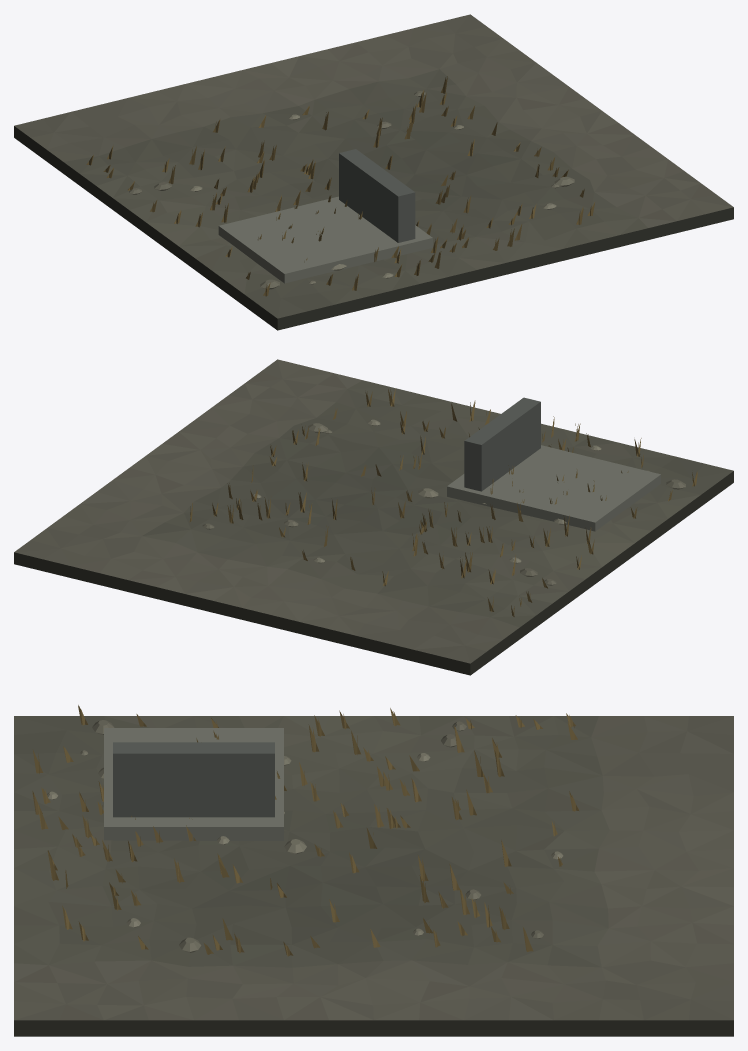
Rendered from CHUNK_ruined_monastery__fallen_guardian_seal__01.glb.
3 views of the same model, one above another, from view 1: azimuth 30°, elevation 25°; view 2: azimuth 150°, elevation 25°; view 3: azimuth 270°, elevation 25° (orthographic). The views are drawn at different scales.
Visible parts, largest first — view 1: CHUNK_ruined_monastery__fallen_guardian_seal__01; view 2: CHUNK_ruined_monastery__fallen_guardian_seal__01; view 3: CHUNK_ruined_monastery__fallen_guardian_seal__01.
Part boxes in pixels (left/top/right/bottom): CHUNK_ruined_monastery__fallen_guardian_seal__01: left=14, top=14, right=733, bottom=330; CHUNK_ruined_monastery__fallen_guardian_seal__01: left=14, top=359, right=733, bottom=675; CHUNK_ruined_monastery__fallen_guardian_seal__01: left=14, top=705, right=733, bottom=1036.
Bounding box in the file's own units: 8 × 1.16 × 8.
